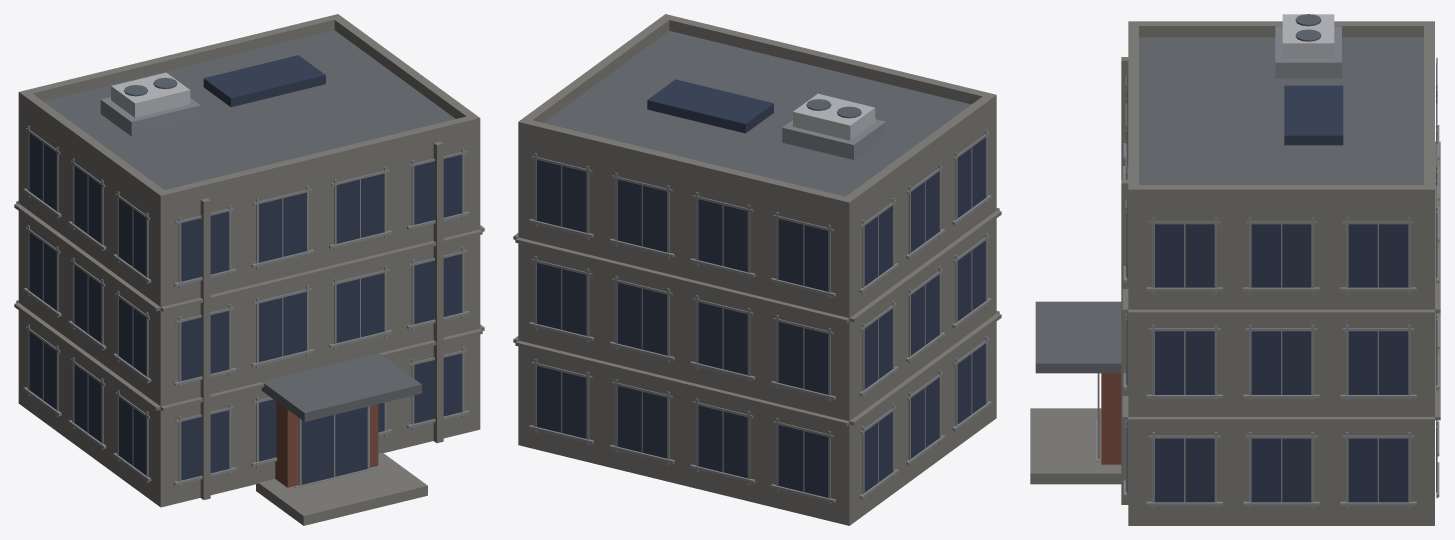
The model's file is civic_long_04_lvl1.glb.
3 views of the same model, side by side, from view 1: azimuth 30°, elevation 25°; view 2: azimuth 150°, elevation 25°; view 3: azimuth 270°, elevation 25° (orthographic). The views are drawn at different scales.
Parts seen in each view (by area): view 1: civic_long_04; view 2: civic_long_04; view 3: civic_long_04.
Part boxes in pixels (x1,y1,x2,y2): civic_long_04: (14, 14, 484, 525); civic_long_04: (513, 14, 1001, 525); civic_long_04: (1030, 14, 1440, 525).
Bounding box in the file's own units: 0.998 × 1.02 × 1.
